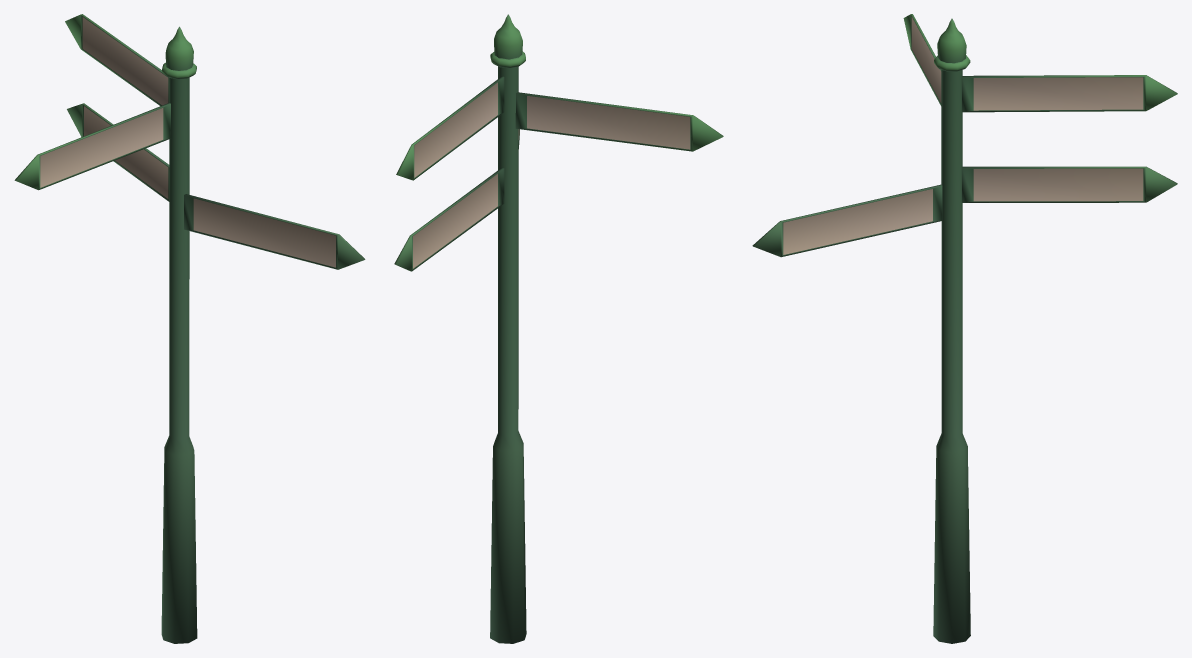
3 views of the same model, side by side, from view 1: azimuth 30°, elevation 25°; view 2: azimuth 150°, elevation 25°; view 3: azimuth 270°, elevation 25° (orthographic).
Visible parts, largest first — view 1: alt292; view 2: alt292; view 3: alt292.
Part boxes in pixels (x1,y1,x2,y2): alt292: [14, 14, 365, 643]; alt292: [394, 14, 723, 643]; alt292: [752, 14, 1177, 643].
Bounding box in the file's own units: 0.2344 × 0.5 × 0.3091.
